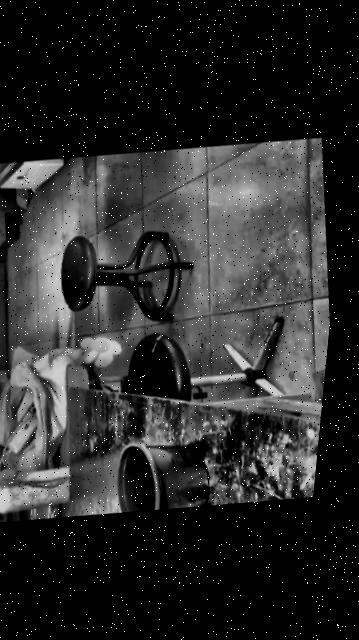pot: (107, 431, 215, 519)
